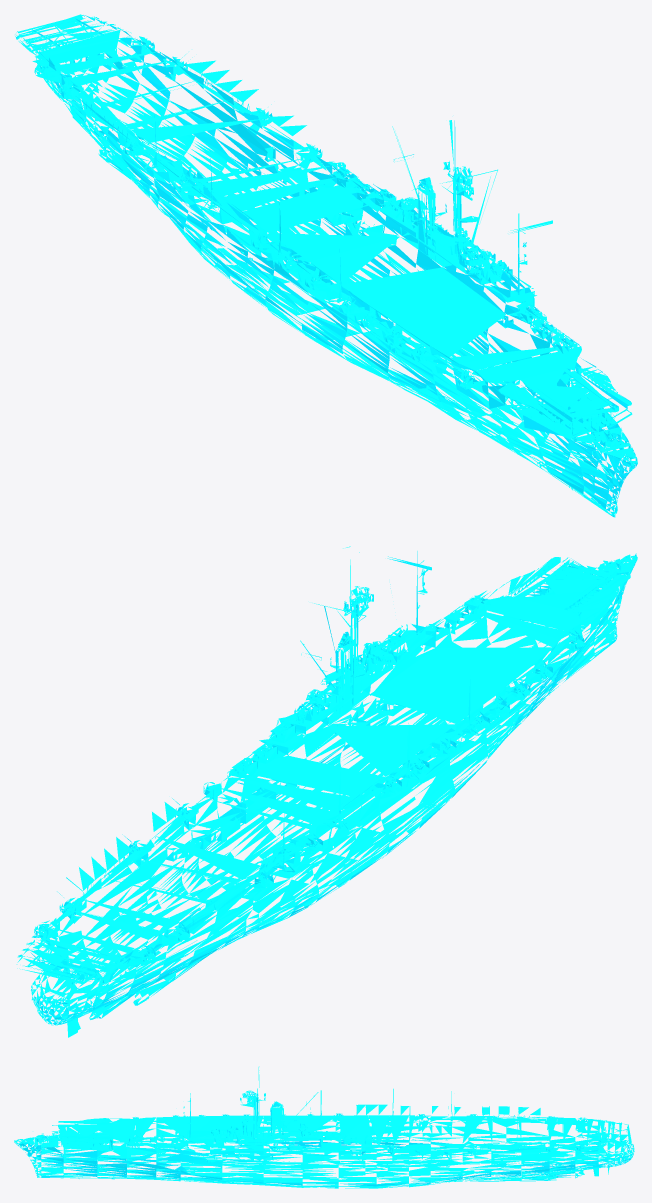
Rendered from Parseval.glb.
3 renders of one model, top to bottom at view 1: azimuth 30°, elevation 25°; view 2: azimuth 150°, elevation 25°; view 3: azimuth 270°, elevation 25°, orthographic. The views are drawn at different scales.
Size of the model in its own units: 2.99 by 3.92 by 17.6.
